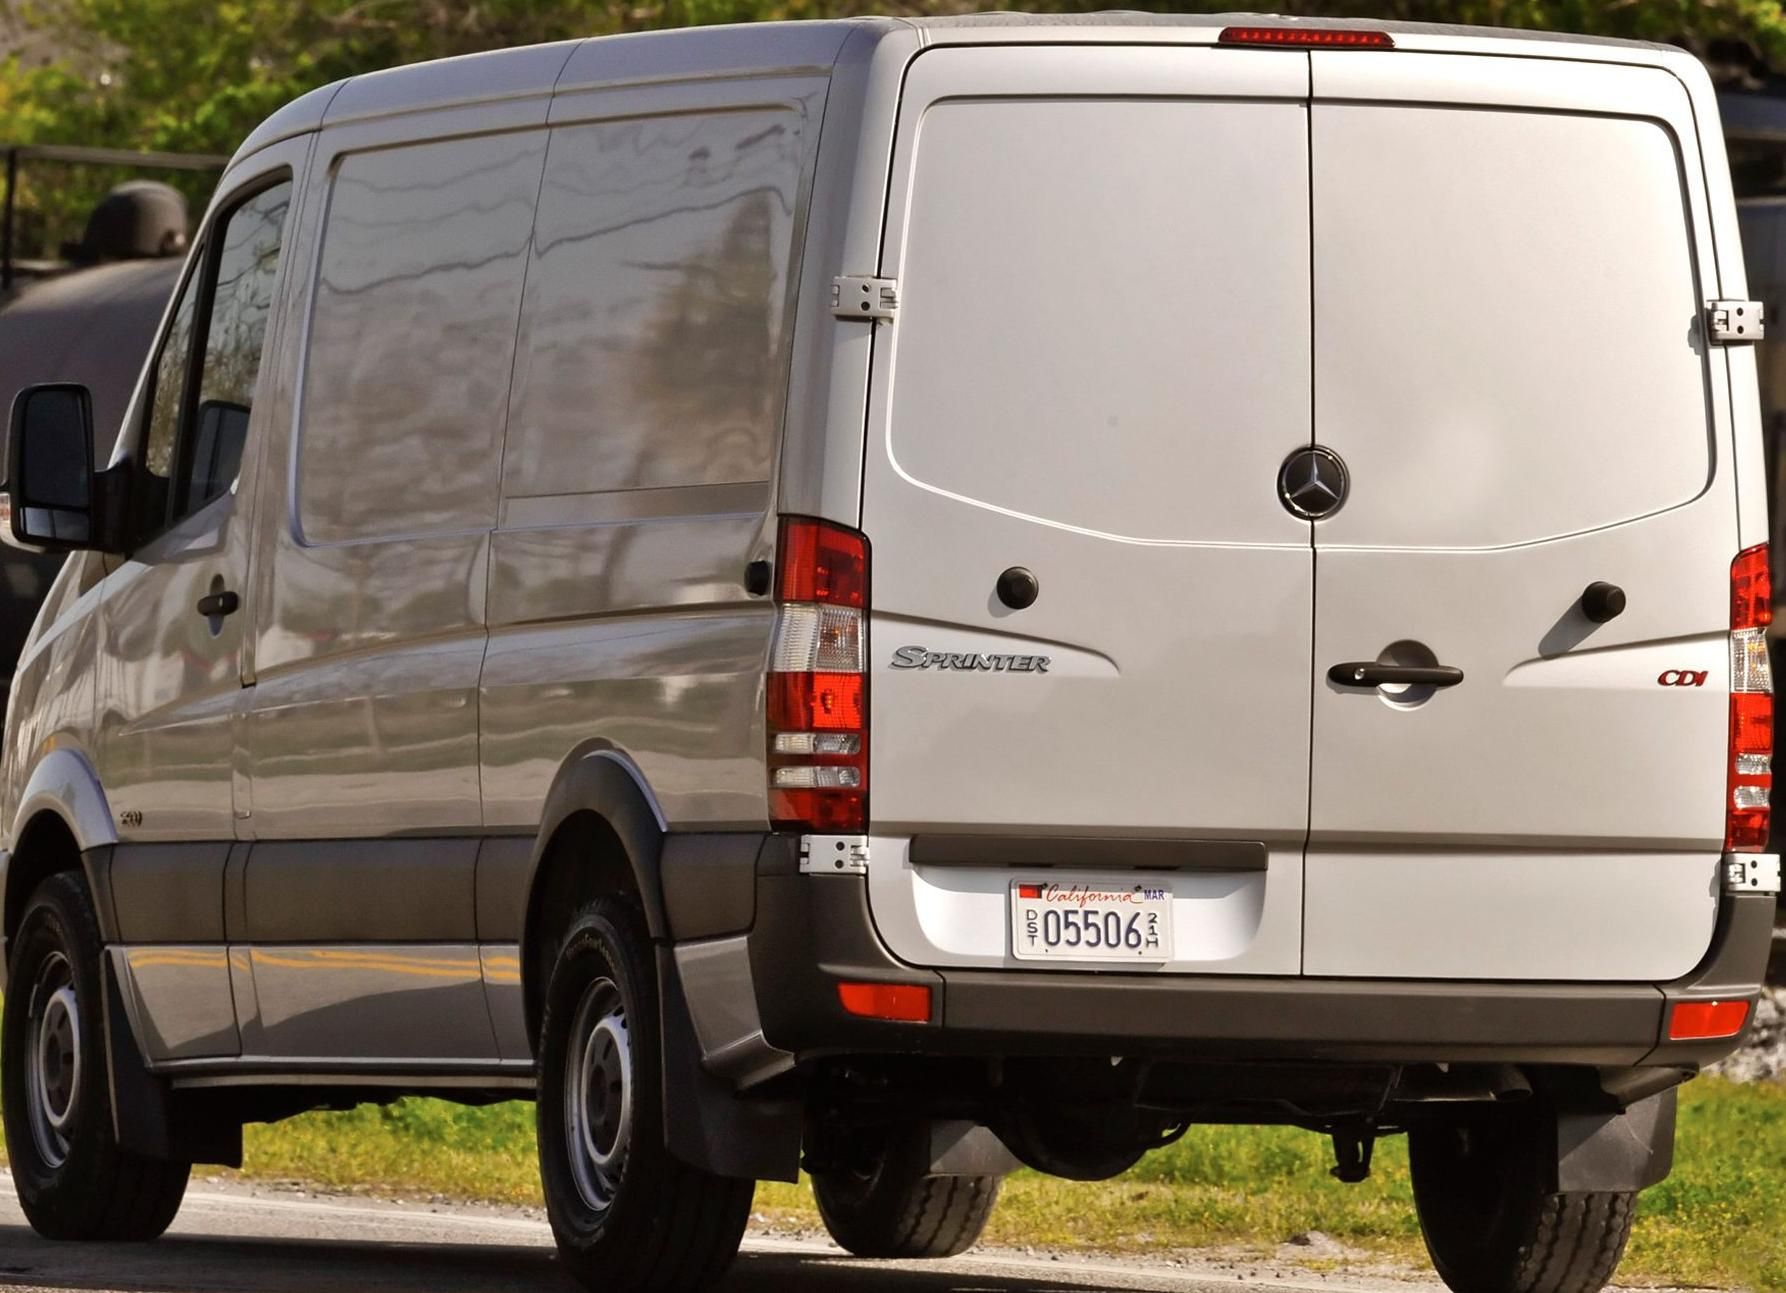back_view: (758, 448, 1769, 1060)
backlight: (771, 493, 935, 856)
side_glass: (83, 93, 526, 599)
